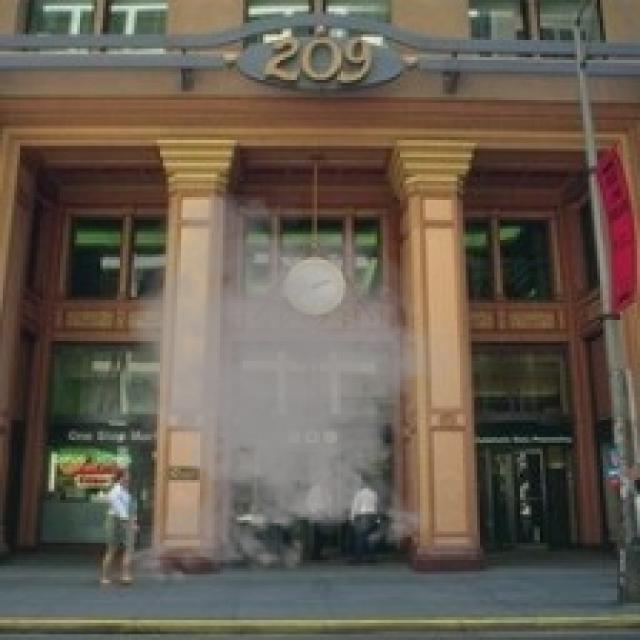Smoke: (62, 186, 488, 594)
